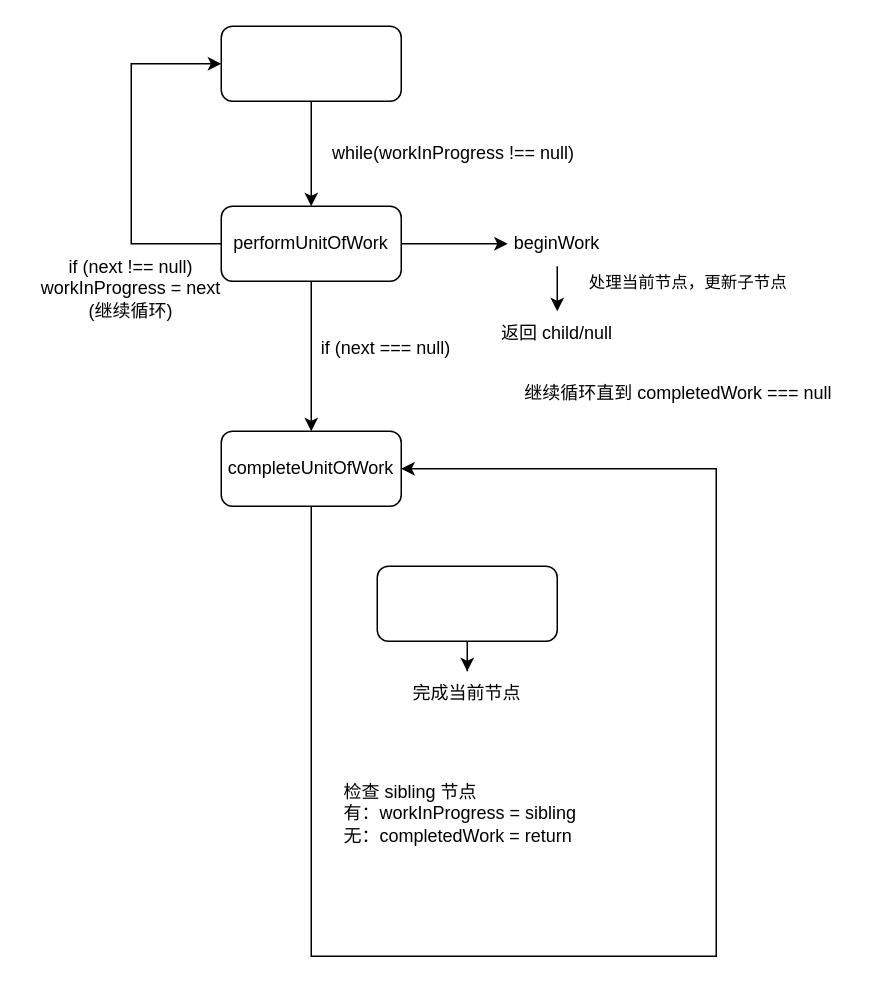
The diagram is 876 pixels wide and 995 high, and some of its shapes have lost their labels. Here are the shapes that lost their labels. From the top down, the centre of each, then its label:
At (x=310, y=63): "workLoopSync".
At (x=466, y=603): "completeWork".
